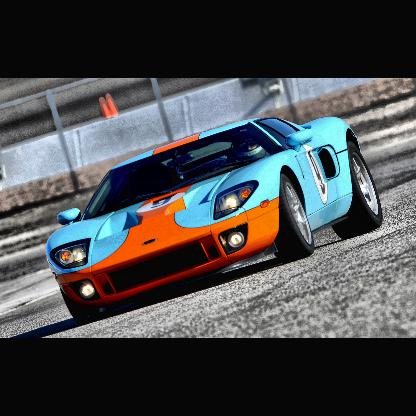Ford GT Coupe 2006: (46, 115, 382, 321)
